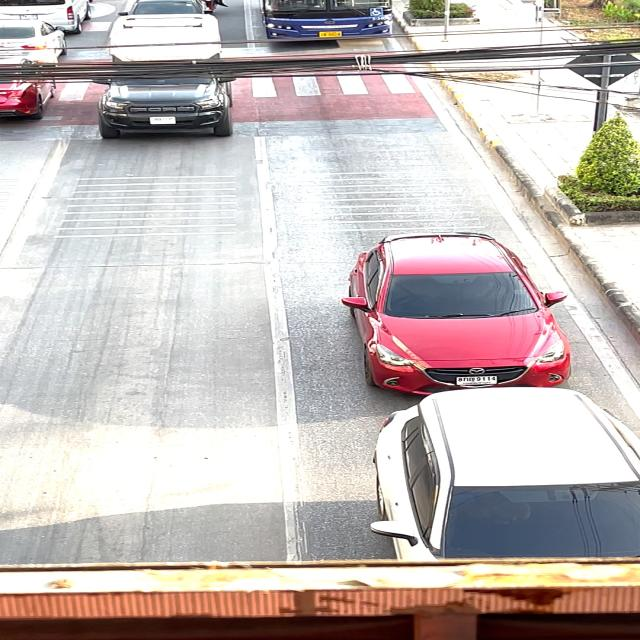car: (315, 197, 587, 390), (353, 382, 640, 556), (86, 8, 241, 136), (261, 0, 423, 50)
